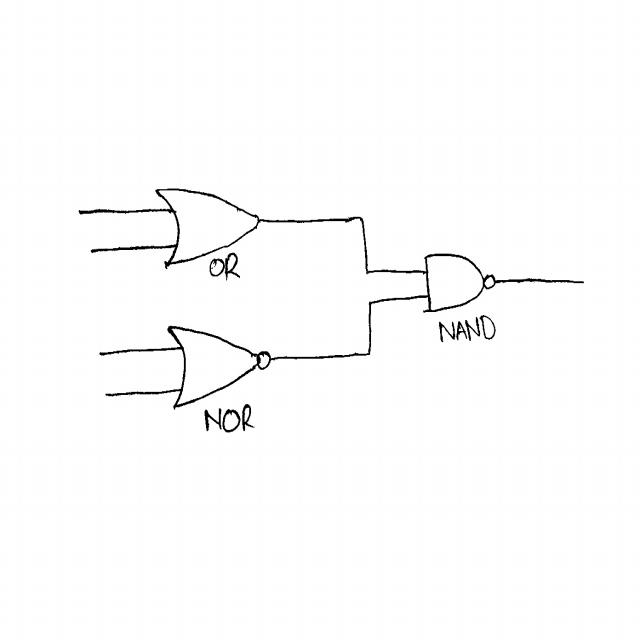junction: (363, 344, 375, 362), (354, 211, 367, 226), (365, 297, 374, 310), (362, 266, 371, 279)
terminal: (100, 387, 114, 403), (74, 205, 87, 219), (576, 276, 589, 289), (86, 246, 98, 257), (96, 349, 105, 360)
text: (438, 314, 497, 344), (203, 403, 256, 434), (206, 248, 241, 283)
